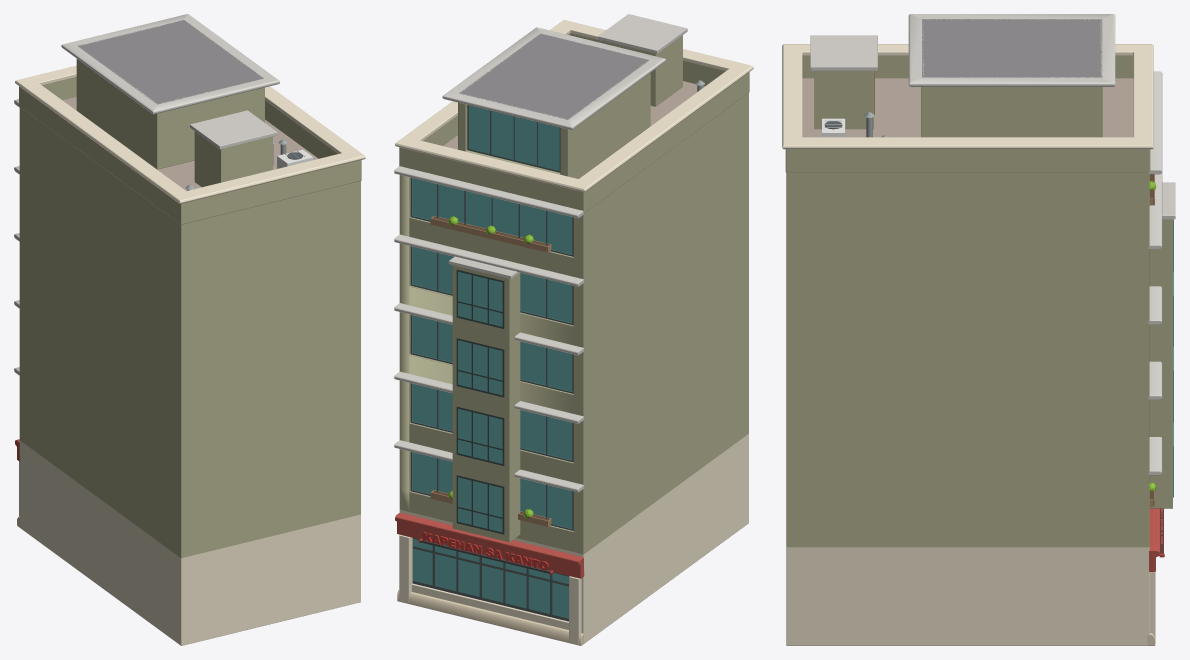
The model's file is stucco_olive_5.glb.
The picture shows the model from 3 angles, left to right: view 1: azimuth 30°, elevation 25°; view 2: azimuth 150°, elevation 25°; view 3: azimuth 270°, elevation 25°; orthographic projection. The views are drawn at different scales.
Visible parts, largest first — view 1: shell, trim, penthouse, props; view 2: shell, trim, props, penthouse, frames, sign_kapehan_sa_kanto_text, penthouse frames; view 3: shell, trim, penthouse, props.
Part boxes in pixels (x1,y1,x2,y2): shell: (19,97,360,645); trim: (14,14,365,527); penthouse: (76,20,264,169); props: (185,110,313,190); shell: (399,81,748,643); trim: (394,20,753,645); props: (430,14,704,542); penthouse: (458,33,650,178); frames: (410,177,573,621); sign_kapehan_sa_kanto_text: (423,532,548,570); penthouse frames: (467,105,560,172); shell: (786,78,1149,645); trim: (782,14,1162,645); penthouse: (921,19,1102,137); props: (810,35,1175,508).
Bounding box in the file's own units: 9.31 × 23.32 × 15.15.
Materials: 19 (2 with a texture image).
